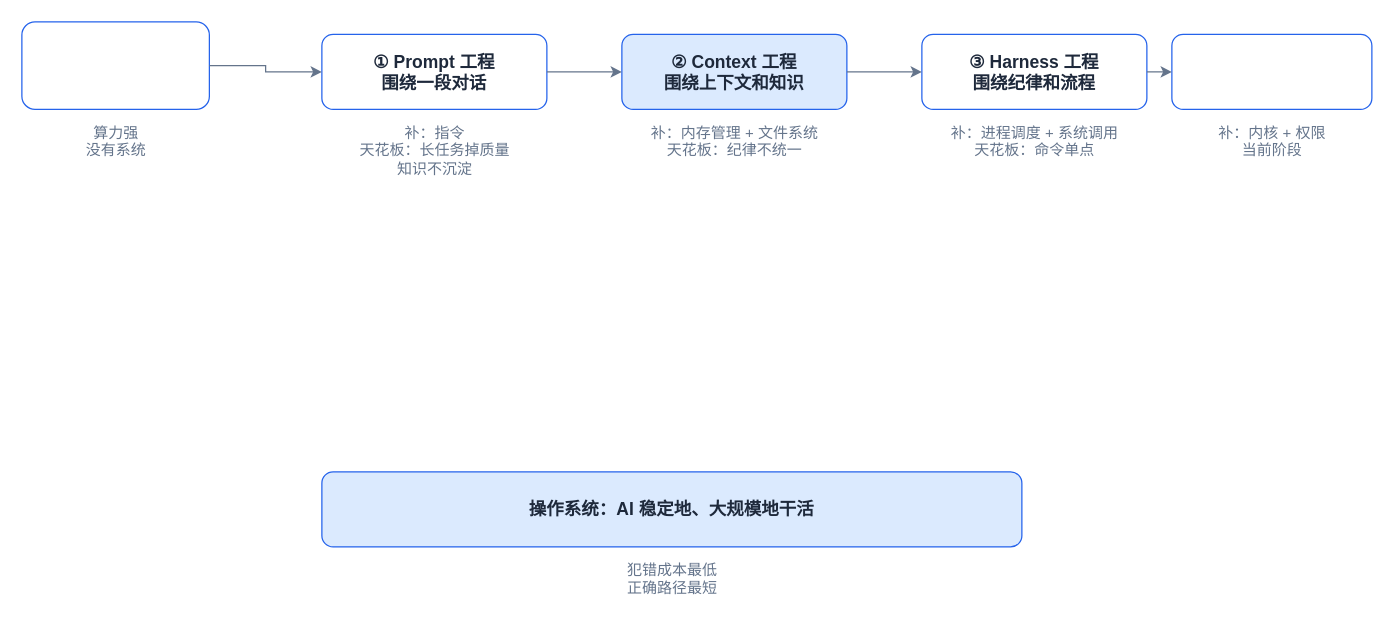
The diagram is 1394 pixels wide and 625 high, and some of its shapes have lost their labels. The shapes that lost their labels are listed below. From the top down, each one's centre as x and y in pixels, then its label:
[115,65]: 大模型 裸 CPU
[1271,71]: ④ 自治体系 围绕治理
